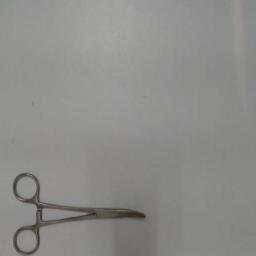Crile Artery Forceps: (11, 164, 149, 256)
